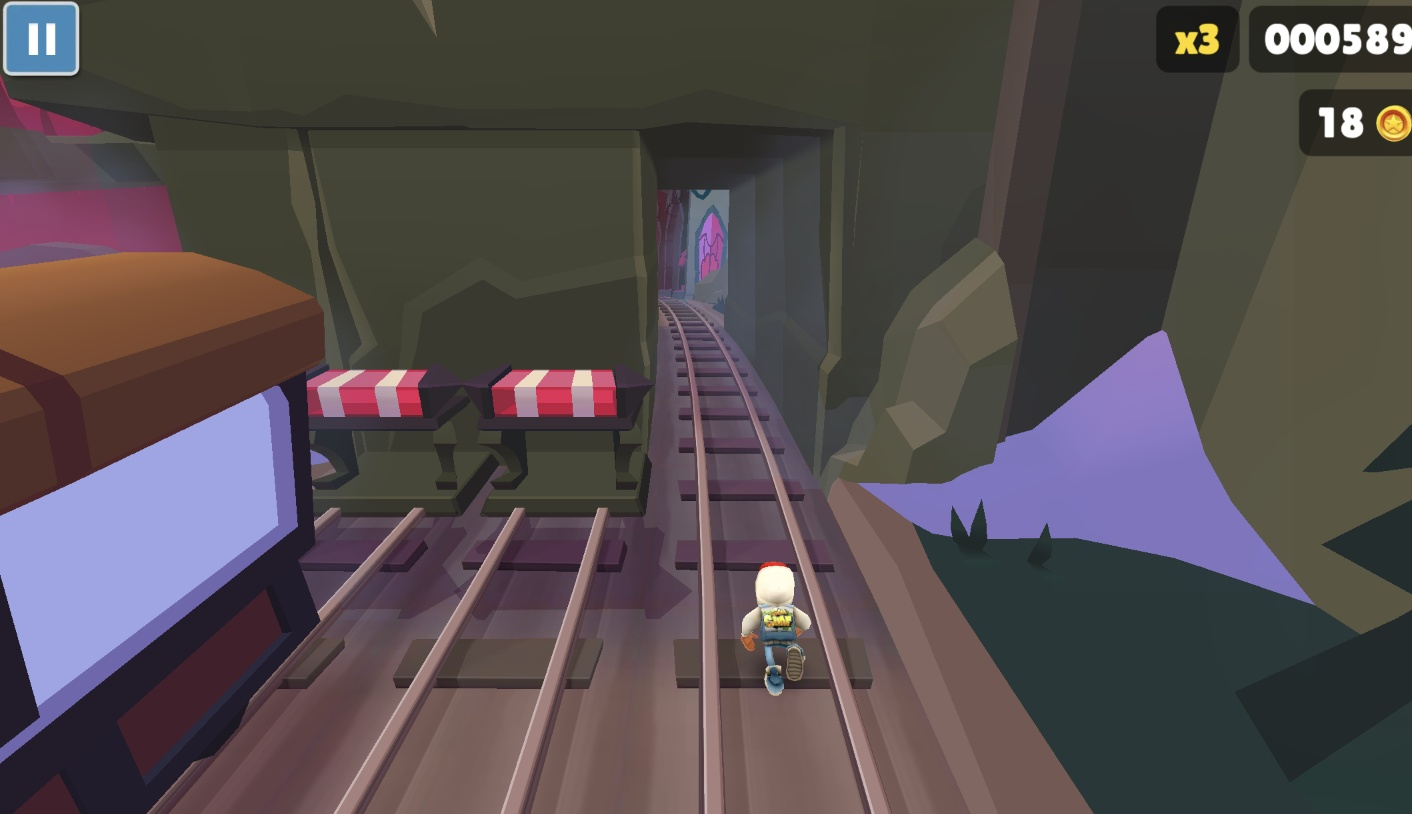ground_barrier: (282, 371, 475, 526), (470, 369, 657, 527)
train: (0, 247, 297, 814)
